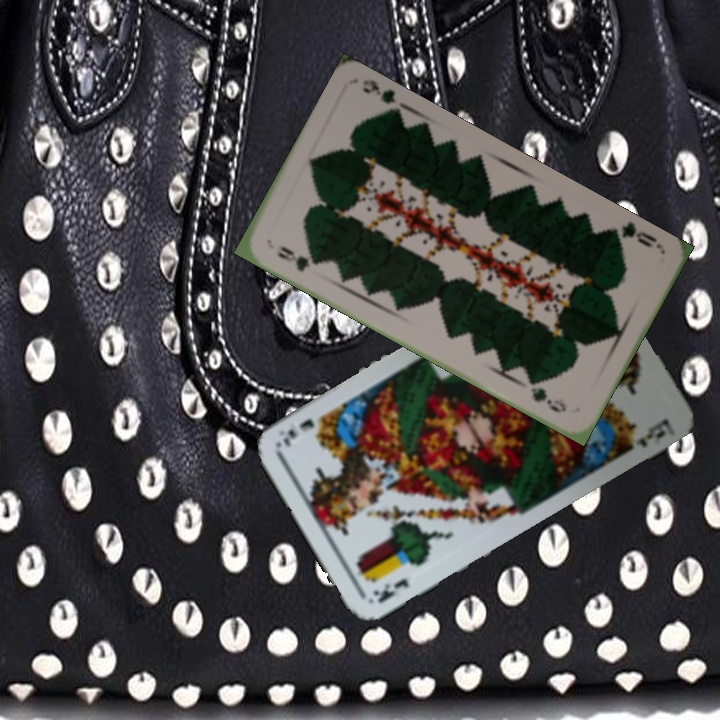EK: (369, 574, 412, 606)
G9: (606, 218, 664, 251), (273, 241, 321, 274)
